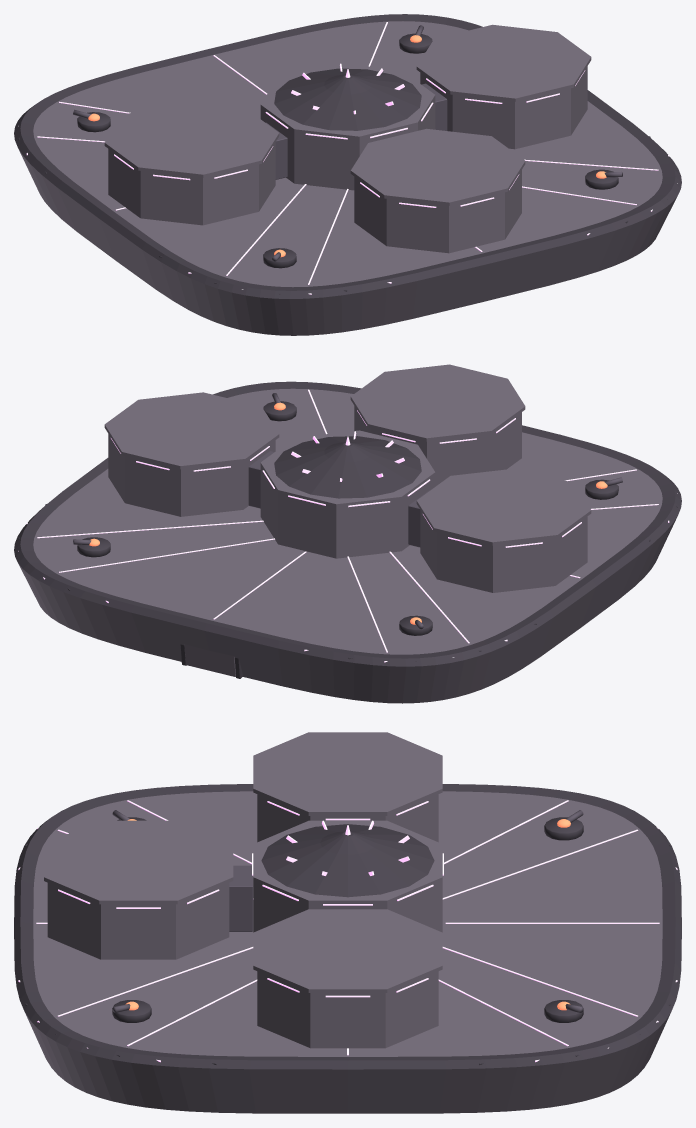
The model's file is ufo_battleship.glb.
3 renders of one model, top to bottom at view 1: azimuth 30°, elevation 25°; view 2: azimuth 150°, elevation 25°; view 3: azimuth 270°, elevation 25°, orthographic. The views are drawn at different scales.
Visible parts, largest first — view 1: Lod_battleship; view 2: Lod_battleship; view 3: Lod_battleship.
Part boxes in pixels (left/top/right/bottom): Lod_battleship: left=14, top=14, right=681, bottom=335; Lod_battleship: left=14, top=364, right=681, bottom=703; Lod_battleship: left=14, top=732, right=681, bottom=1113.
Size of the model in its own units: 47.84 by 13.35 by 47.84.
